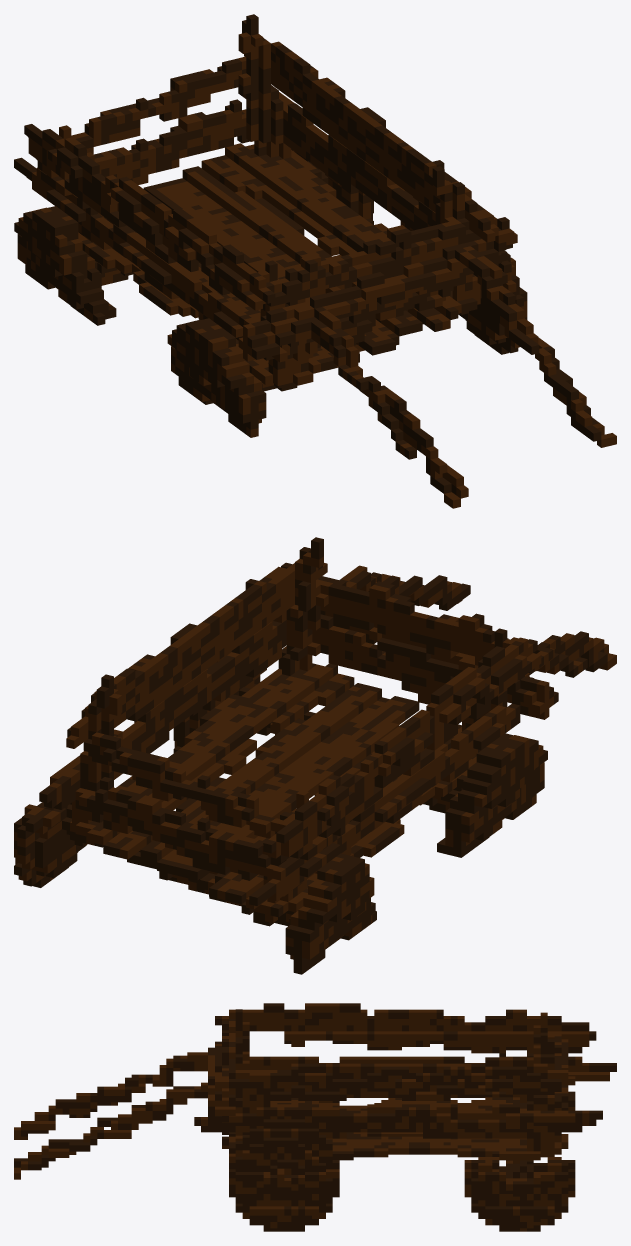
Rendered from Carriage.obj.
The picture shows the model from 3 angles, top to bottom: view 1: azimuth 30°, elevation 25°; view 2: azimuth 150°, elevation 25°; view 3: azimuth 270°, elevation 25°; orthographic projection. The views are drawn at different scales.
Bounding box in the file's own units: 4 × 2.7 × 8.7.
Materials: 1 (1 with a texture image).
